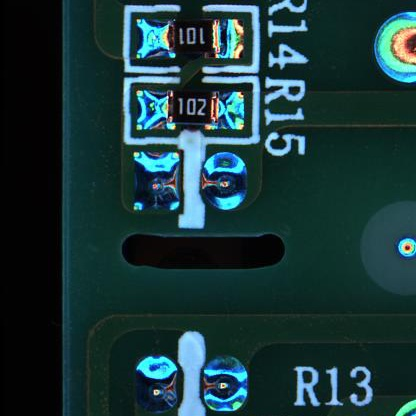spot: (125, 146, 190, 223), (196, 340, 253, 416), (197, 146, 253, 216)
